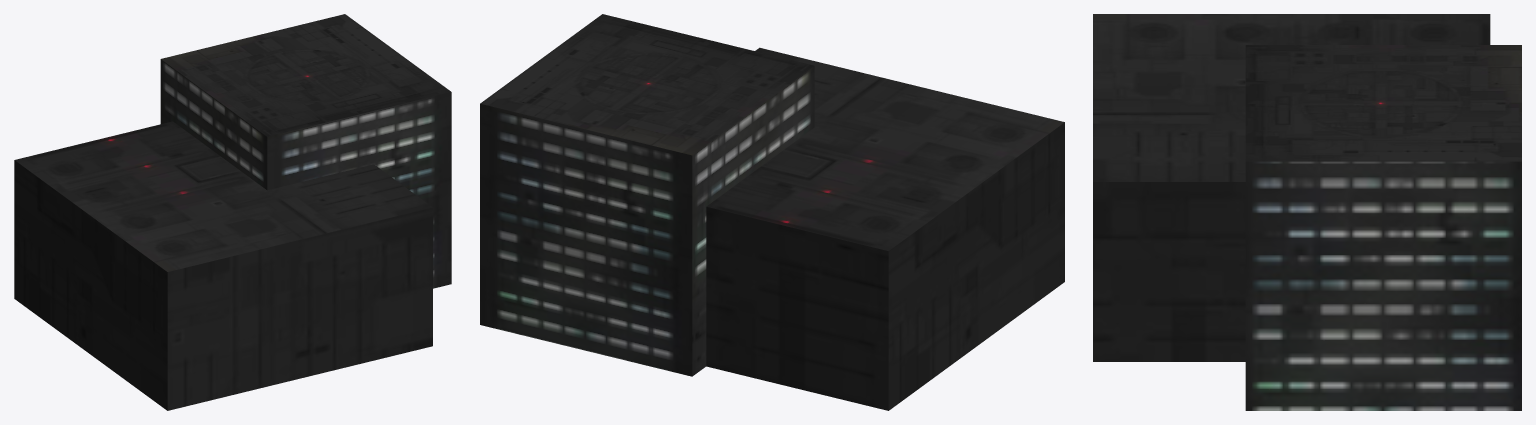
The model's file is scifi_building_15.obj.
3 renders of one model, left to right at view 1: azimuth 30°, elevation 25°; view 2: azimuth 150°, elevation 25°; view 3: azimuth 270°, elevation 25°, orthographic. The views are drawn at different scales.
Visible parts, largest first — view 1: building_15; view 2: building_15; view 3: building_15.
Part boxes in pixels (<box>): building_15: <box>14,14,451,410</box>; building_15: <box>480,14,1064,410</box>; building_15: <box>1093,14,1521,410</box>.
Size of the model in its own units: 67.83 by 36.35 by 56.65.
